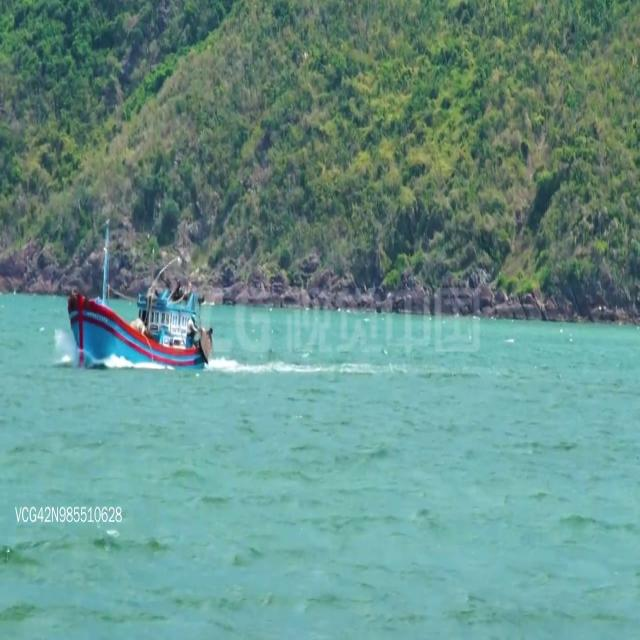fishing boat: (68, 216, 214, 370)
